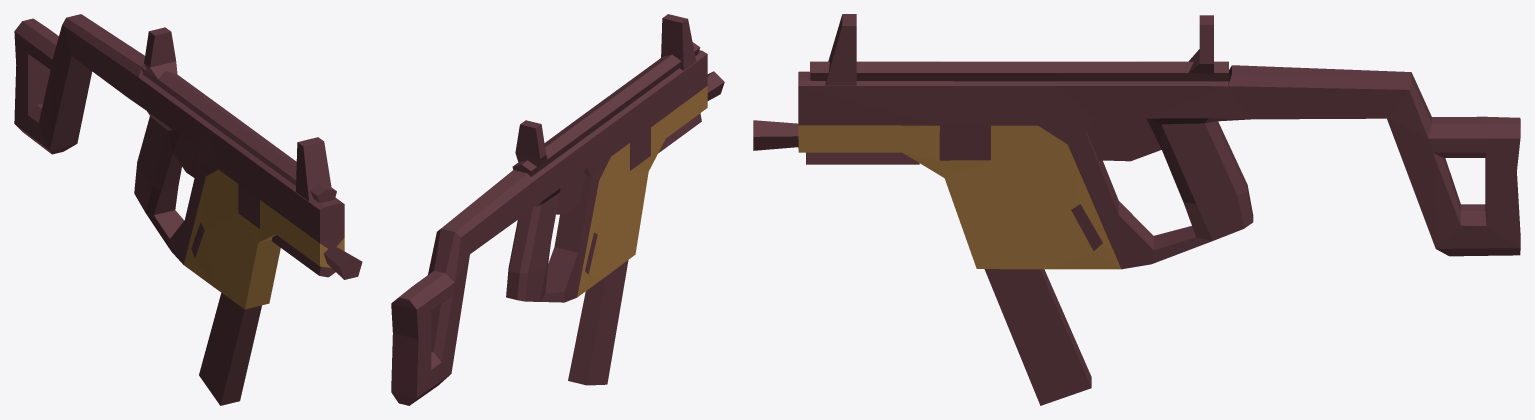
File: SM_SMG_Vector.fbx
3 views of the same model, side by side, from view 1: azimuth 30°, elevation 25°; view 2: azimuth 150°, elevation 25°; view 3: azimuth 270°, elevation 25° (orthographic). The views are drawn at different scales.
Visible parts, largest first — view 1: SM_SMG_Vector; view 2: SM_SMG_Vector; view 3: SM_SMG_Vector.
Part boxes in pixels (bbox=[...]): SM_SMG_Vector: bbox=[14, 14, 362, 405]; SM_SMG_Vector: bbox=[391, 14, 724, 405]; SM_SMG_Vector: bbox=[753, 14, 1520, 405].
Size of the model in its own units: 0.0324 by 0.3518 by 0.6432.
